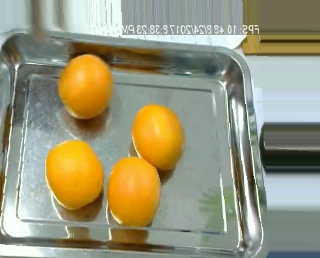Orange: (45, 139, 104, 211), (106, 155, 161, 228), (57, 53, 114, 118), (131, 104, 185, 171)
